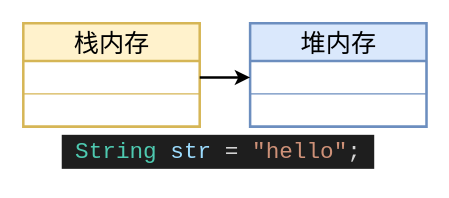
Image size: 449x198. Some labels were removed from this diagram. Each missing label, with the centre of its shape:
"hello": (x=338, y=77)
str: (x=111, y=77)
